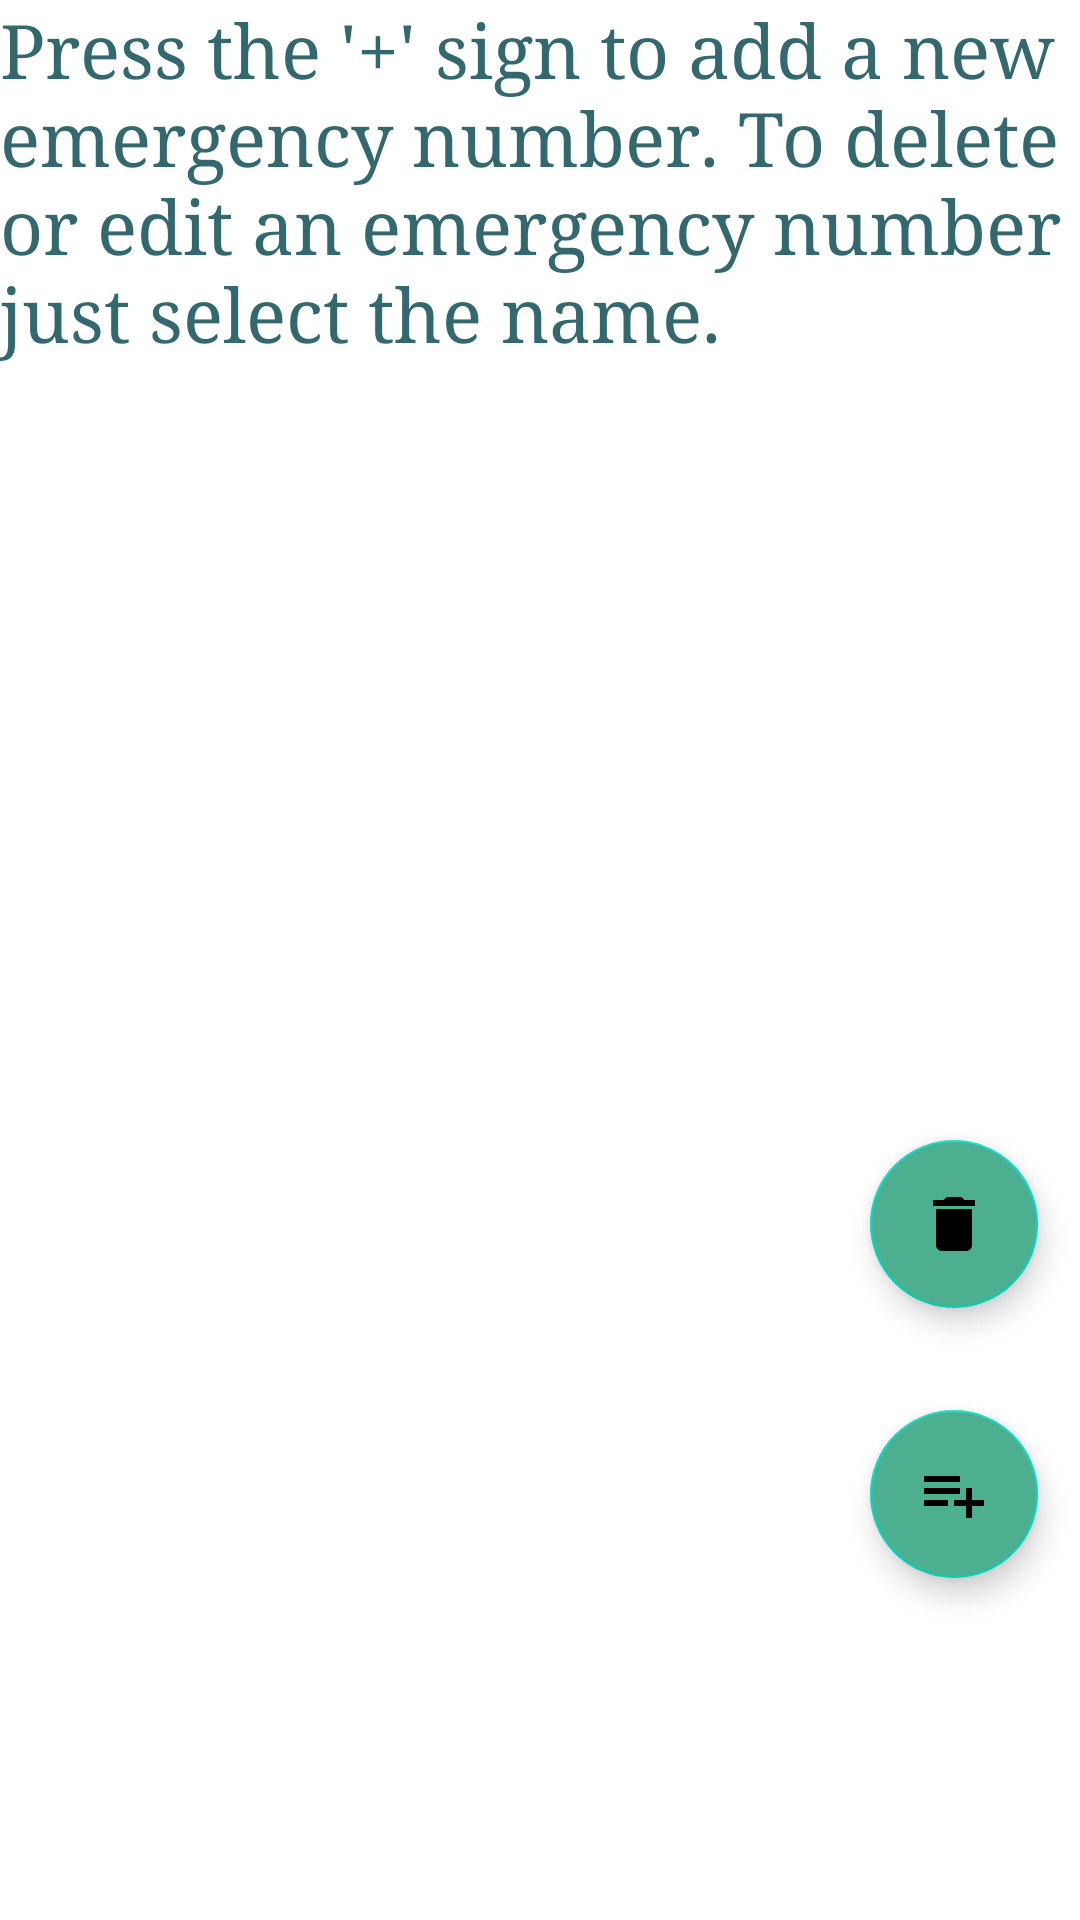

Icons on this 1080 x 1920 Android screen, each with the point to tap as point (x, y):
delete: point (954, 1224)
list add: point (954, 1494)
